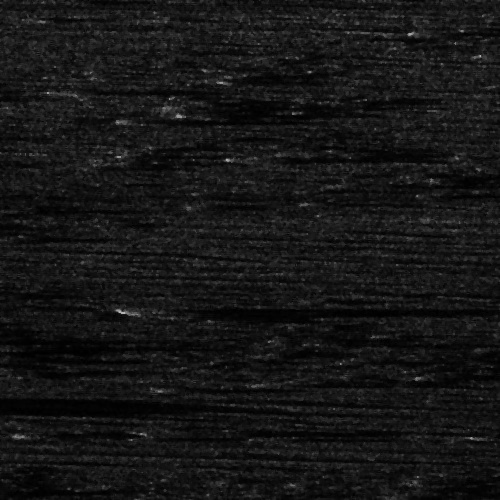object: (215, 424, 288, 433), (220, 153, 293, 160), (134, 305, 207, 312), (0, 428, 50, 437), (57, 83, 88, 96), (182, 106, 223, 115), (0, 355, 44, 362), (0, 342, 34, 351), (409, 177, 440, 180)
shadow: (171, 305, 492, 312), (252, 424, 490, 433), (0, 395, 142, 410), (8, 342, 224, 351), (73, 83, 202, 96), (203, 106, 384, 115), (257, 153, 445, 160), (0, 336, 195, 341), (7, 355, 137, 362), (24, 428, 110, 437), (154, 116, 287, 119), (425, 177, 500, 180)
